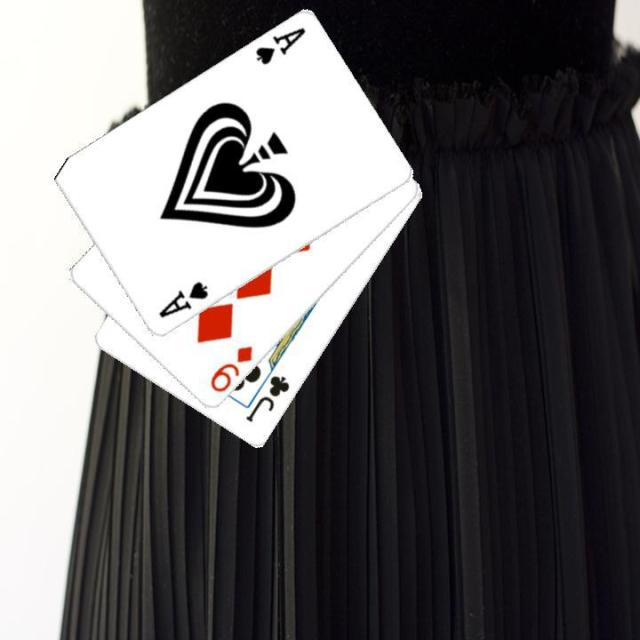9D: (206, 342, 254, 396)
AS: (250, 24, 308, 68), (154, 278, 210, 321)
JC: (242, 371, 292, 425)
